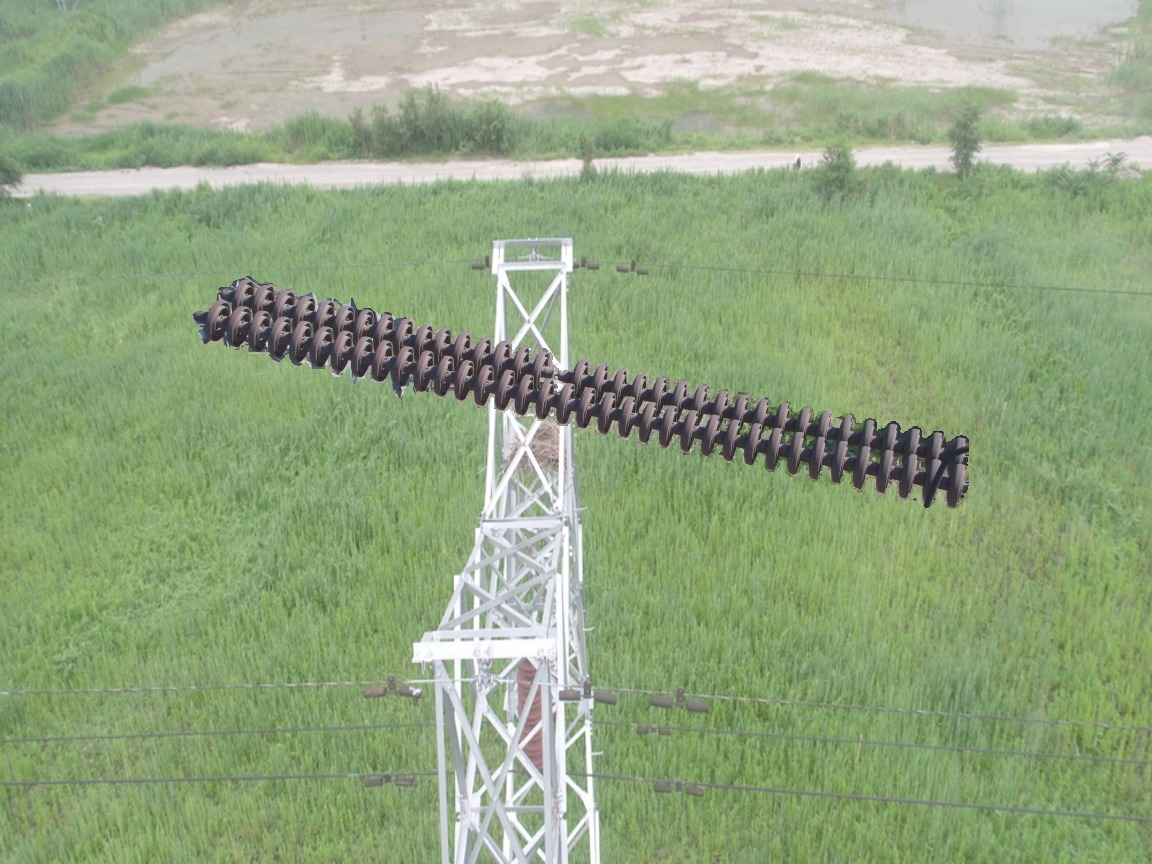defect: (528, 347, 593, 389)
